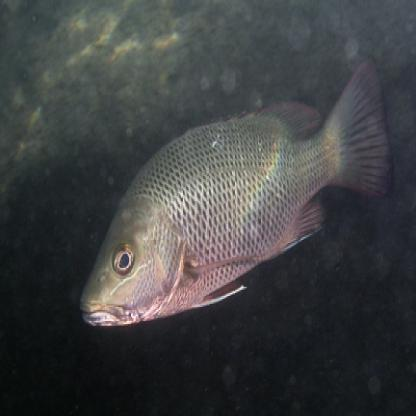Lutjanidae -Snappers-: (76, 48, 399, 334)
